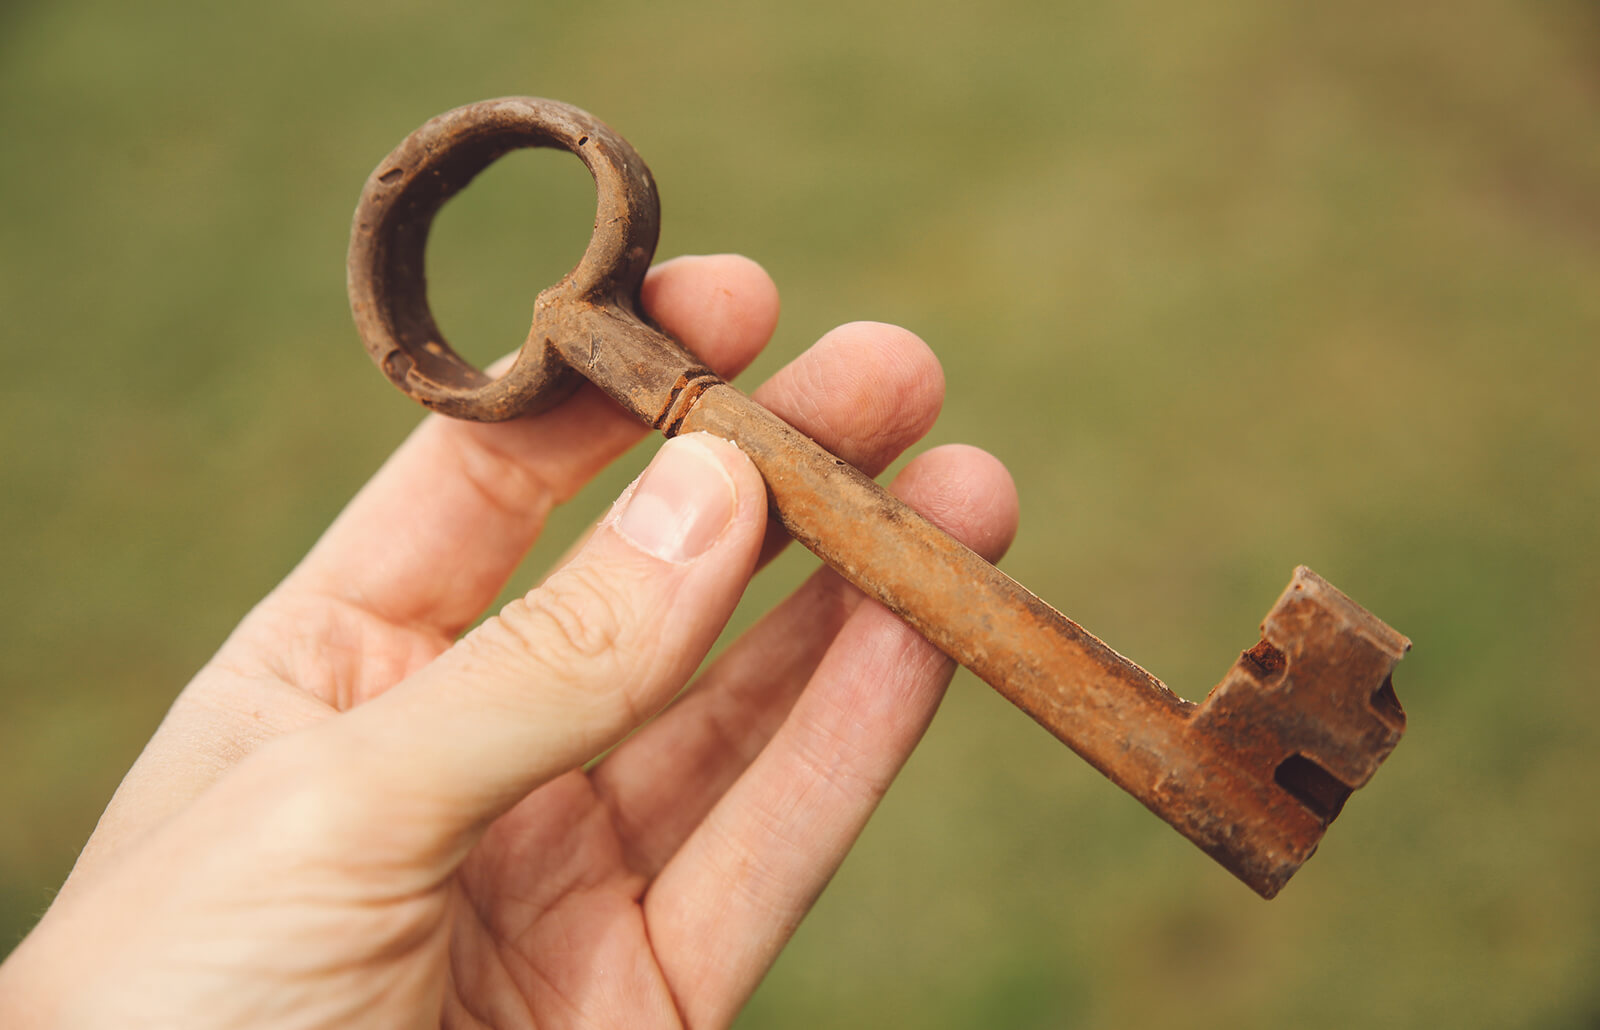rust: (815, 496, 1405, 915), (327, 90, 504, 430), (532, 288, 686, 430)
